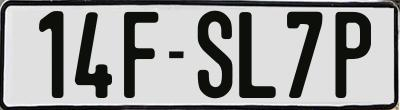1: (38, 9, 64, 99)
4: (72, 9, 109, 95)
7: (286, 10, 324, 98)
F: (122, 9, 160, 100)
L: (238, 12, 278, 102)
P: (333, 12, 370, 104)
S: (197, 9, 235, 100)
